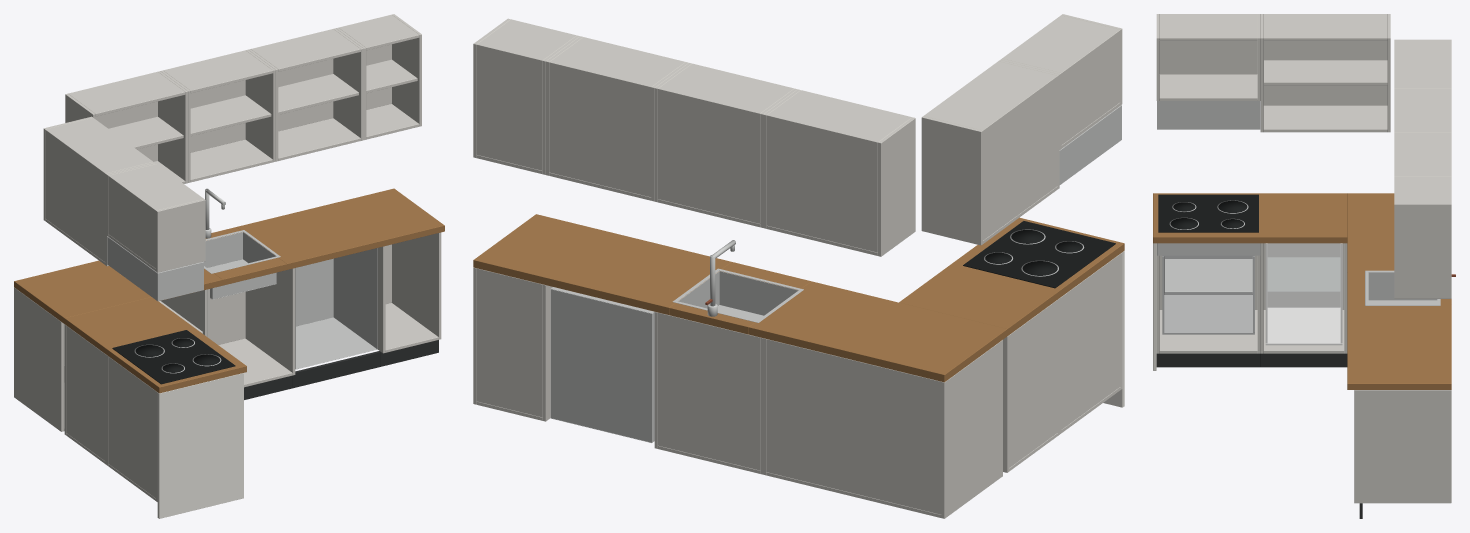
Rendered from l_kitchen_appliances_body.glb.
3 views of the same model, side by side, from view 1: azimuth 30°, elevation 25°; view 2: azimuth 150°, elevation 25°; view 3: azimuth 270°, elevation 25° (orthographic). The views are drawn at different scales.
Parts seen in each view (by area): view 1: l_kitchen_appliances_body; view 2: l_kitchen_appliances_body; view 3: l_kitchen_appliances_body.
Boxes of the visible parts, <box> form: l_kitchen_appliances_body: <box>14,14,444,518</box>; l_kitchen_appliances_body: <box>473,14,1124,518</box>; l_kitchen_appliances_body: <box>1153,14,1455,518</box>.
Bounding box in the file's own units: 2.6 × 2 × 1.75.
